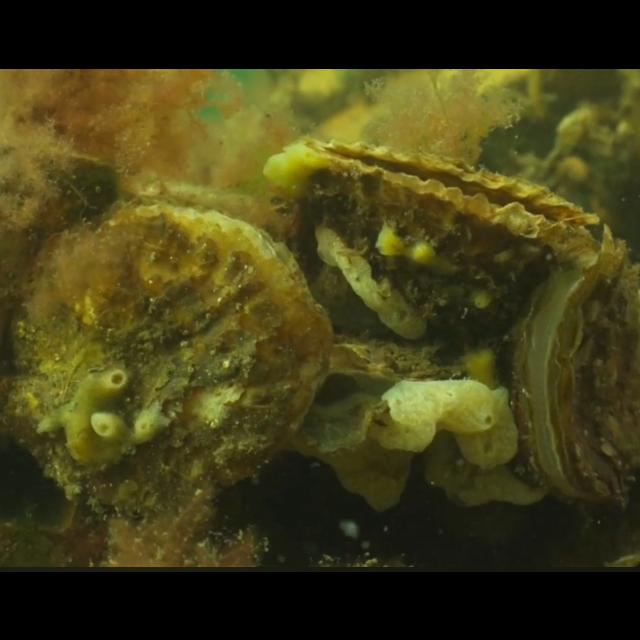Oyster-Closed: (1, 199, 333, 525)
Oyster-Open: (260, 134, 598, 340), (506, 222, 640, 504), (296, 331, 508, 452)
